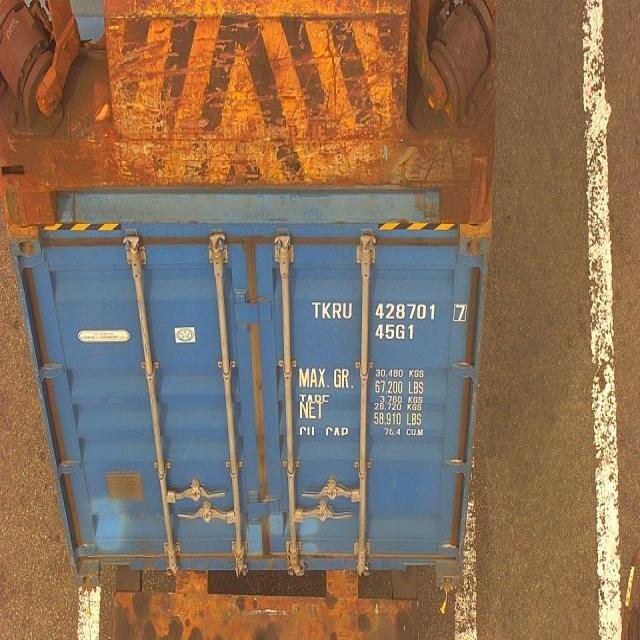ISO: (376, 323, 416, 341)
container_number: (316, 302, 466, 322)
